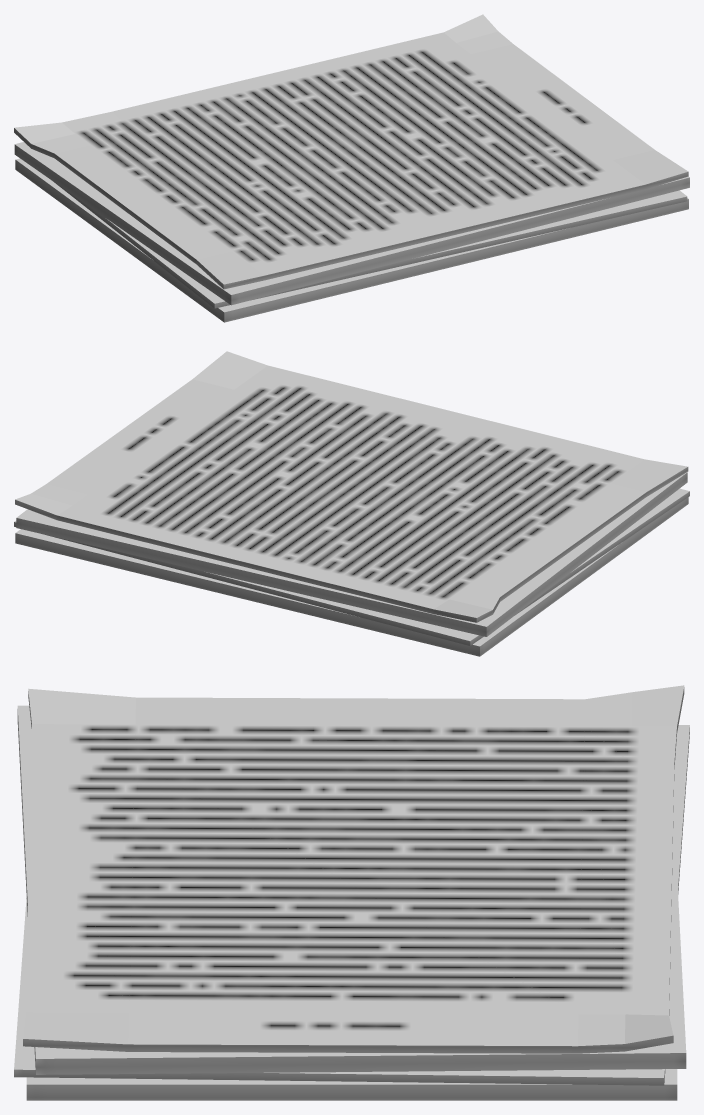
File: paperstack_01.fbx
3 renders of one model, top to bottom at view 1: azimuth 30°, elevation 25°; view 2: azimuth 150°, elevation 25°; view 3: azimuth 270°, elevation 25°, orthographic. The views are drawn at different scales.
Parts seen in each view (by area): view 1: paperStack; view 2: paperStack; view 3: paperStack.
Part boxes in pixels (<box>): paperStack: <box>14,14,689,322</box>; paperStack: <box>14,351,689,656</box>; paperStack: <box>14,685,689,1100</box>.
Size of the model in its own units: 205 by 17.5 by 162.
